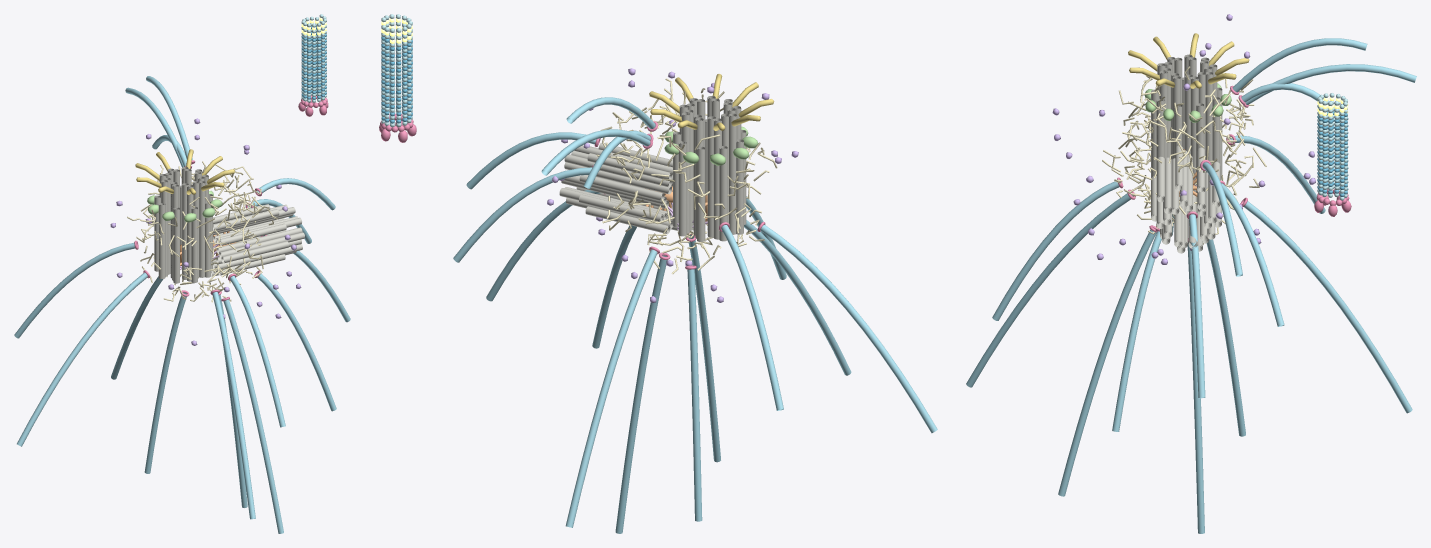
The model's file is centrosome.glb.
3 views of the same model, side by side, from view 1: azimuth 30°, elevation 25°; view 2: azimuth 150°, elevation 25°; view 3: azimuth 270°, elevation 25° (orthographic). The views are drawn at different scales.
Visible parts, largest first — view 1: Aster Microtubules, Mother Centriole, Daughter Centriole, PCM Scaffold (pericentrin, CDK5RAP2), Alpha-Tubulin (hero), Distal Appendages, Beta-Tubulin (hero), Centriolar Satellites, Subdistal Appendages; view 2: Aster Microtubules, Mother Centriole, Daughter Centriole, PCM Scaffold (pericentrin, CDK5RAP2), Alpha-Tubulin (hero), Distal Appendages, Beta-Tubulin (hero), Centriolar Satellites, Subdistal Appendages; view 3: Aster Microtubules, Mother Centriole, Daughter Centriole, PCM Scaffold (pericentrin, CDK5RAP2), Alpha-Tubulin (hero), Beta-Tubulin (hero), Distal Appendages, Centriolar Satellites, Subdistal Appendages, Gamma-TuRC (hero).
Boxes of the visible parts, <box> form: Aster Microtubules: <box>14,76,350,533</box>; Mother Centriole: <box>154,167,212,283</box>; Daughter Centriole: <box>211,204,304,276</box>; PCM Scaffold (pericentrin, CDK5RAP2): <box>127,161,277,302</box>; Alpha-Tubulin (hero): <box>301,14,326,102</box>; Distal Appendages: <box>135,149,234,194</box>; Beta-Tubulin (hero): <box>301,26,326,99</box>; Centriolar Satellites: <box>110,118,301,345</box>; Subdistal Appendages: <box>147,190,222,222</box>; Aster Microtubules: <box>453,97,937,533</box>; Mother Centriole: <box>673,96,746,241</box>; Daughter Centriole: <box>559,143,678,234</box>; PCM Scaffold (pericentrin, CDK5RAP2): <box>596,78,777,274</box>; Alpha-Tubulin (hero): <box>381,14,412,127</box>; Distal Appendages: <box>649,74,774,130</box>; Beta-Tubulin (hero): <box>381,33,412,123</box>; Centriolar Satellites: <box>547,68,798,302</box>; Subdistal Appendages: <box>664,126,758,165</box>; Aster Microtubules: <box>966,38,1416,533</box>; Mother Centriole: <box>1151,54,1222,192</box>; Daughter Centriole: <box>1151,145,1221,253</box>; PCM Scaffold (pericentrin, CDK5RAP2): <box>1102,66,1266,244</box>; Alpha-Tubulin (hero): <box>1317,93,1347,200</box>; Beta-Tubulin (hero): <box>1317,111,1348,196</box>; Distal Appendages: <box>1128,33,1249,88</box>; Centriolar Satellites: <box>1052,14,1315,264</box>; Subdistal Appendages: <box>1144,83,1231,122</box>; Gamma-TuRC (hero): <box>1314,189,1351,216</box>.
Bounding box in the file's own units: 10.93 × 11.61 × 9.28.
